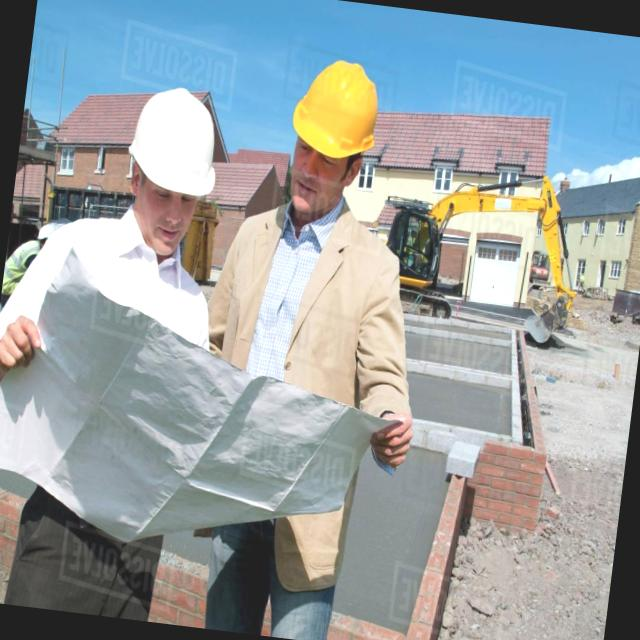helmet: (120, 82, 230, 208), (280, 51, 388, 166)
no-goggles: (285, 138, 359, 181), (133, 185, 210, 212)
no-vest: (202, 190, 390, 468)
